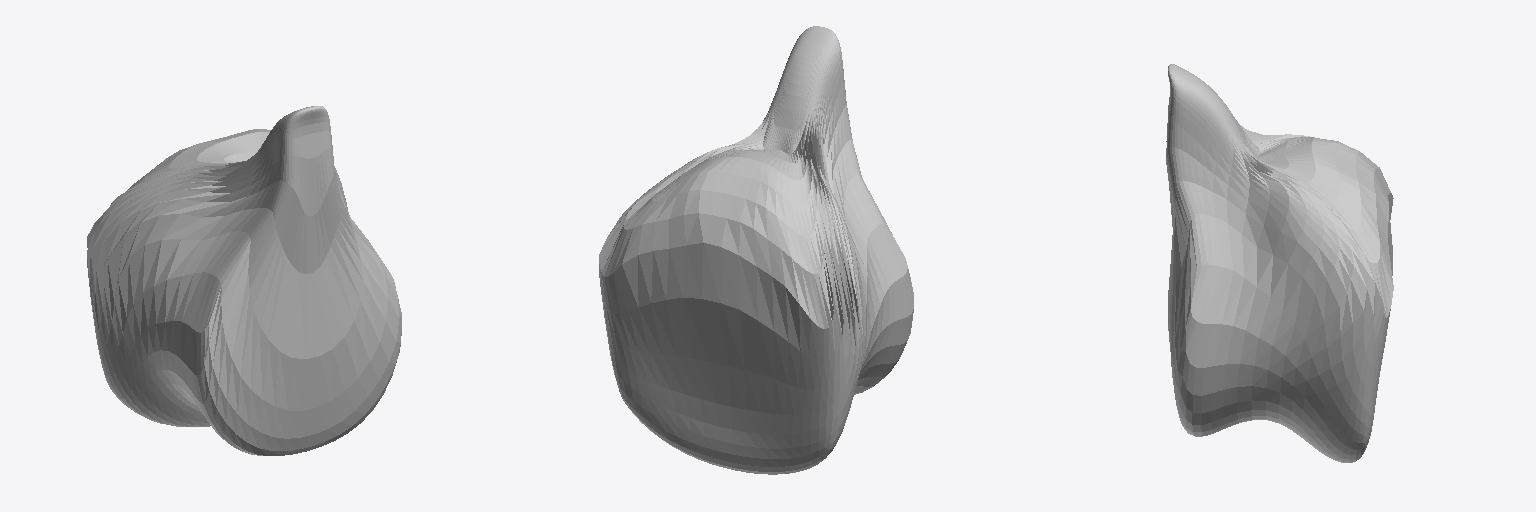
Rendered from vertabrae6.obj.
The picture shows the model from 3 angles: view 1: azimuth 30°, elevation 25°; view 2: azimuth 150°, elevation 25°; view 3: azimuth 270°, elevation 25°; orthographic projection.
Parts seen in each view (by area): view 1: Cube.112_Cube.114; view 2: Cube.112_Cube.114; view 3: Cube.112_Cube.114.
Boxes of the visible parts, box(x1,y1,x2,y2) form: Cube.112_Cube.114: box(87, 106, 401, 455); Cube.112_Cube.114: box(599, 26, 913, 474); Cube.112_Cube.114: box(1166, 64, 1393, 462).
Size of the model in its own units: 0.1399 by 0.2029 by 0.1111.